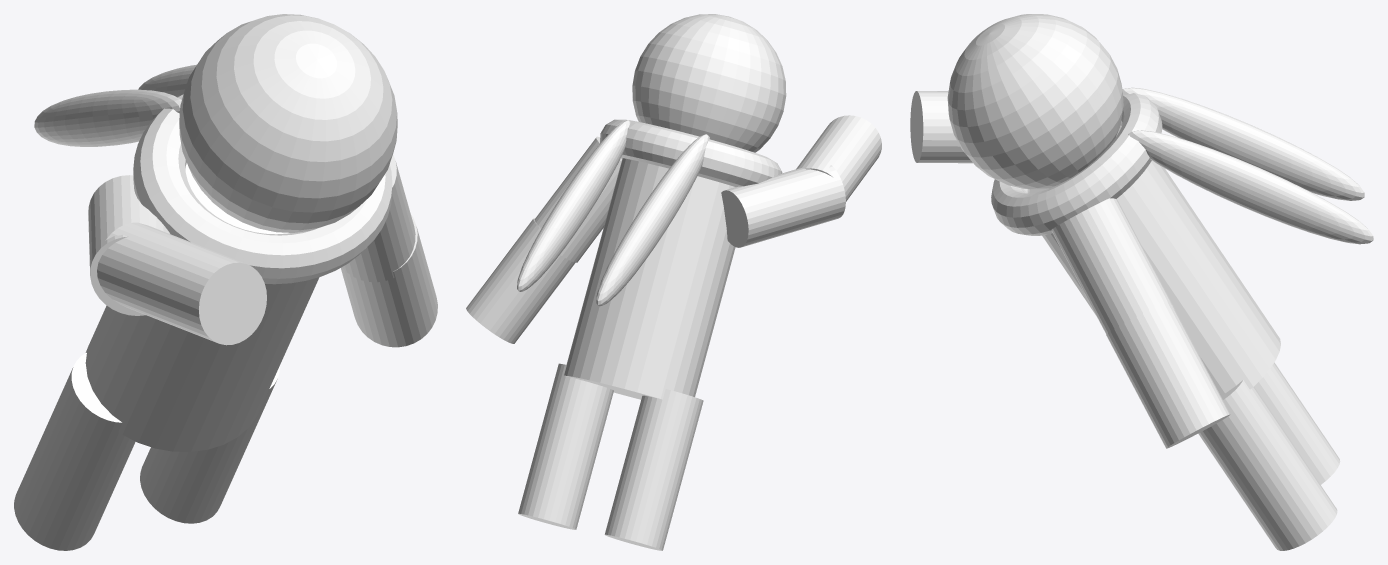
File: hitoAt.obj
3 renders of one model, left to right at view 1: azimuth 30°, elevation 25°; view 2: azimuth 150°, elevation 25°; view 3: azimuth 270°, elevation 25°, orthographic. The views are drawn at different scales.
Visible parts, largest first — view 1: 球_球.001, 円柱, トーラス, 円柱.002, 円柱.008_円柱.009, 円柱.004_円柱.008, 円柱.011_円柱.013, 立方体.001_立方体.002, 円柱.006, 円柱.009_円柱.011, 円柱.010_円柱.012, 円柱.003 (+1 smaller); view 2: 円柱, 球_球.001, 円柱.009_円柱.011, 立方体.001_立方体.002, 円柱.011_円柱.013, 立方体_立方体.001, トーラス, 円柱.004_円柱.008, 円柱.006, 円柱.008_円柱.009, 円柱.003, 円柱.002 (+1 smaller); view 3: 球_球.001, 円柱, 円柱.011_円柱.013, 立方体_立方体.001, 円柱.010_円柱.012, トーラス, 立方体.001_立方体.002, 円柱.006, 円柱.003, 円柱.002, 円柱.004_円柱.008, 円柱.008_円柱.009.
Boxes of the visible parts, left/top/right/bottom form: 球_球.001: left=179, top=14, right=397, bottom=232; 円柱: left=85, top=163, right=319, bottom=451; トーラス: left=133, top=94, right=392, bottom=284; 円柱.002: left=97, top=222, right=266, bottom=345; 円柱.008_円柱.009: left=42, top=352, right=135, bottom=487; 円柱.004_円柱.008: left=14, top=432, right=121, bottom=550; 円柱.011_円柱.013: left=341, top=214, right=437, bottom=347; 立方体.001_立方体.002: left=34, top=89, right=181, bottom=146; 円柱.006: left=140, top=445, right=247, bottom=523; 円柱.009_円柱.011: left=88, top=175, right=169, bottom=315; 円柱.010_円柱.012: left=342, top=154, right=415, bottom=282; 円柱.003: left=193, top=366, right=279, bottom=459; 円柱: left=564, top=158, right=735, bottom=399; 球_球.001: left=632, top=14, right=786, bottom=152; 円柱.009_円柱.011: left=721, top=165, right=845, bottom=247; 立方体.001_立方体.002: left=596, top=134, right=709, bottom=306; 円柱.011_円柱.013: left=466, top=218, right=575, bottom=343; 立方体_立方体.001: left=517, top=120, right=630, bottom=291; トーラス: left=600, top=119, right=782, bottom=186; 円柱.004_円柱.008: left=604, top=459, right=682, bottom=550; 円柱.006: left=518, top=438, right=596, bottom=529; 円柱.008_円柱.009: left=625, top=389, right=703, bottom=475; 円柱.003: left=538, top=363, right=613, bottom=455; 円柱.002: left=796, top=115, right=881, bottom=201; 球_球.001: left=947, top=14, right=1123, bottom=189; 円柱: left=1029, top=127, right=1280, bottom=395; 円柱.011_円柱.013: left=1106, top=301, right=1230, bottom=448; 立方体_立方体.001: left=1128, top=130, right=1373, bottom=244; 円柱.010_円柱.012: left=1051, top=198, right=1175, bottom=334; トーラス: left=991, top=93, right=1162, bottom=235; 立方体.001_立方体.002: left=1122, top=87, right=1364, bottom=200; 円柱.006: left=1230, top=440, right=1337, bottom=550; 円柱.003: left=1198, top=380, right=1291, bottom=482; 円柱.002: left=910, top=91, right=972, bottom=163; 円柱.004_円柱.008: left=1274, top=390, right=1340, bottom=484; 円柱.008_円柱.009: left=1254, top=362, right=1293, bottom=415.
Size of the model in its own units: 4.61 by 6.26 by 5.26.
1 material, 1 textured.
